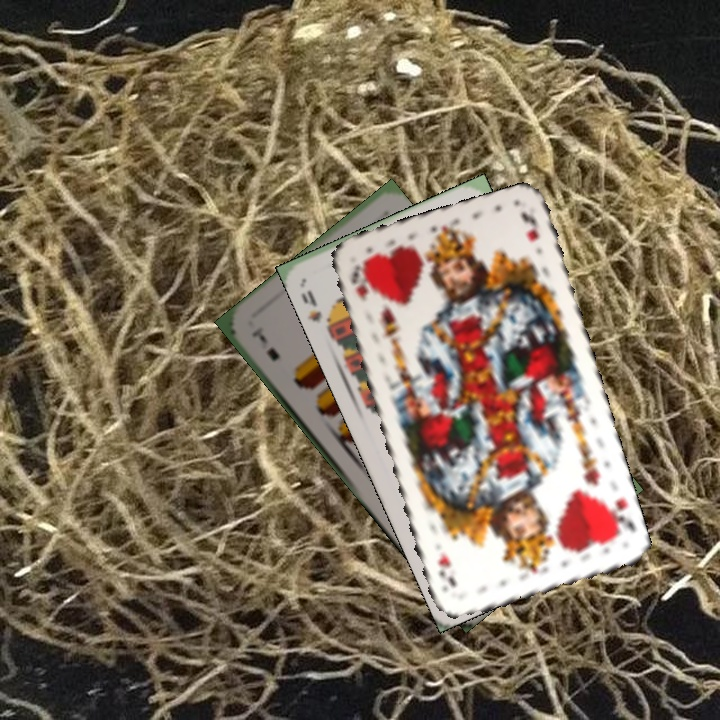E7: (248, 324, 283, 364)
HK: (601, 494, 639, 539), (347, 261, 371, 304)
S9: (297, 286, 338, 336)
